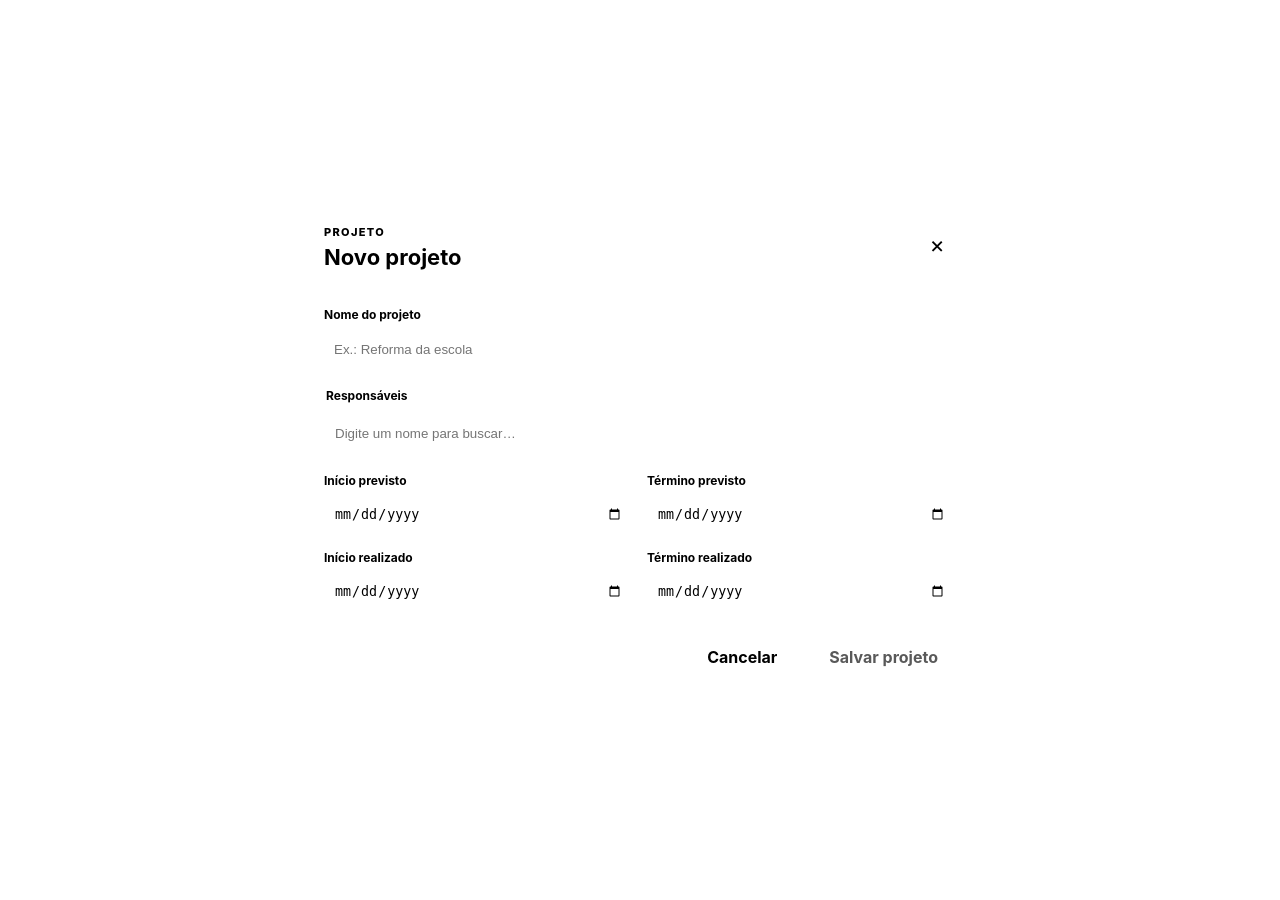
ProjectFormModal › filters responsibles and keeps selected people in a compact chip
Type "Bruno" into the dropdown named "Buscar responsáveis".
click(640, 433); type("Bruno")  # box [332,420,948,446]
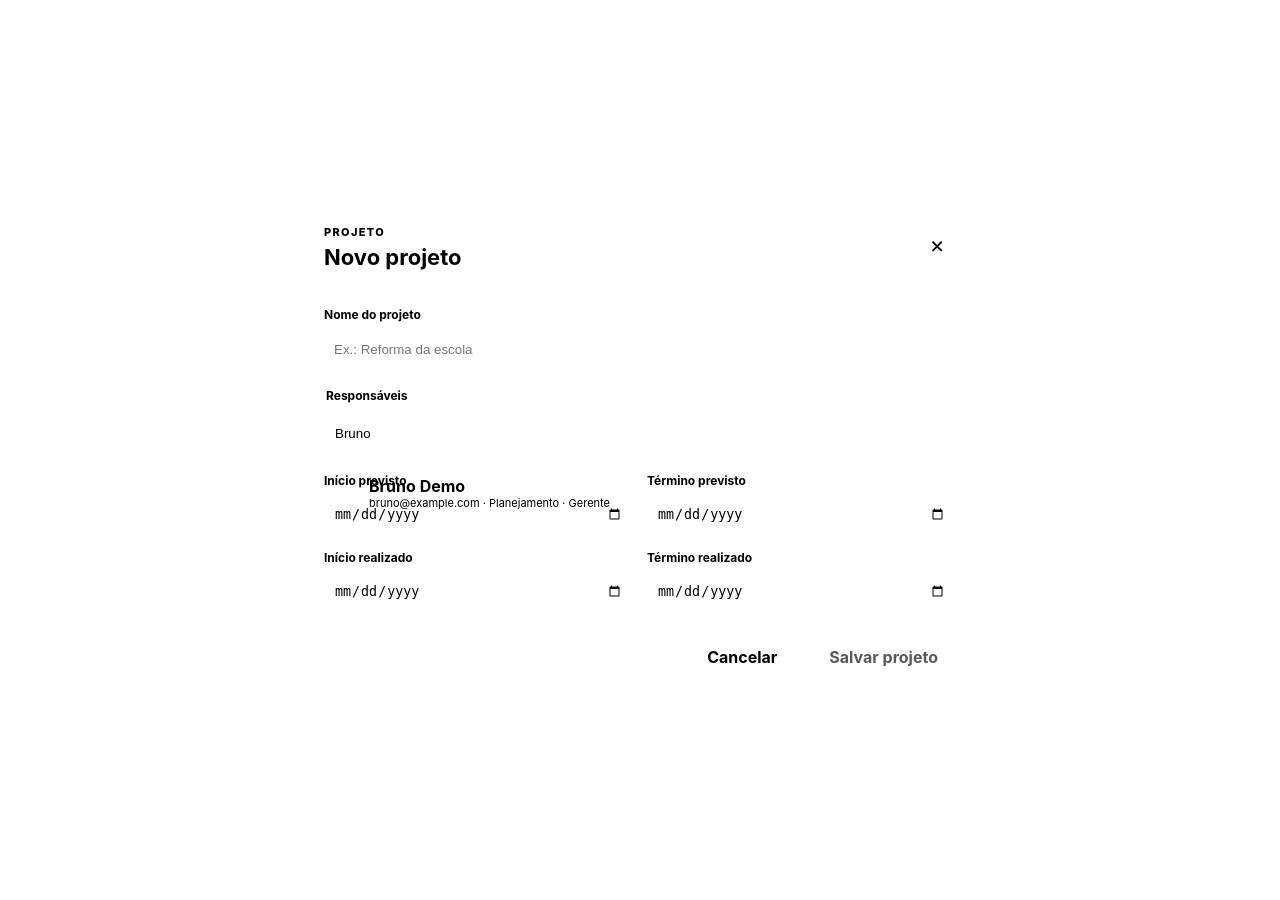
Click the option "Bruno Demo bruno@example.com · Planejamento · Gerente".
click(417, 486)  # box [330,467,950,519]
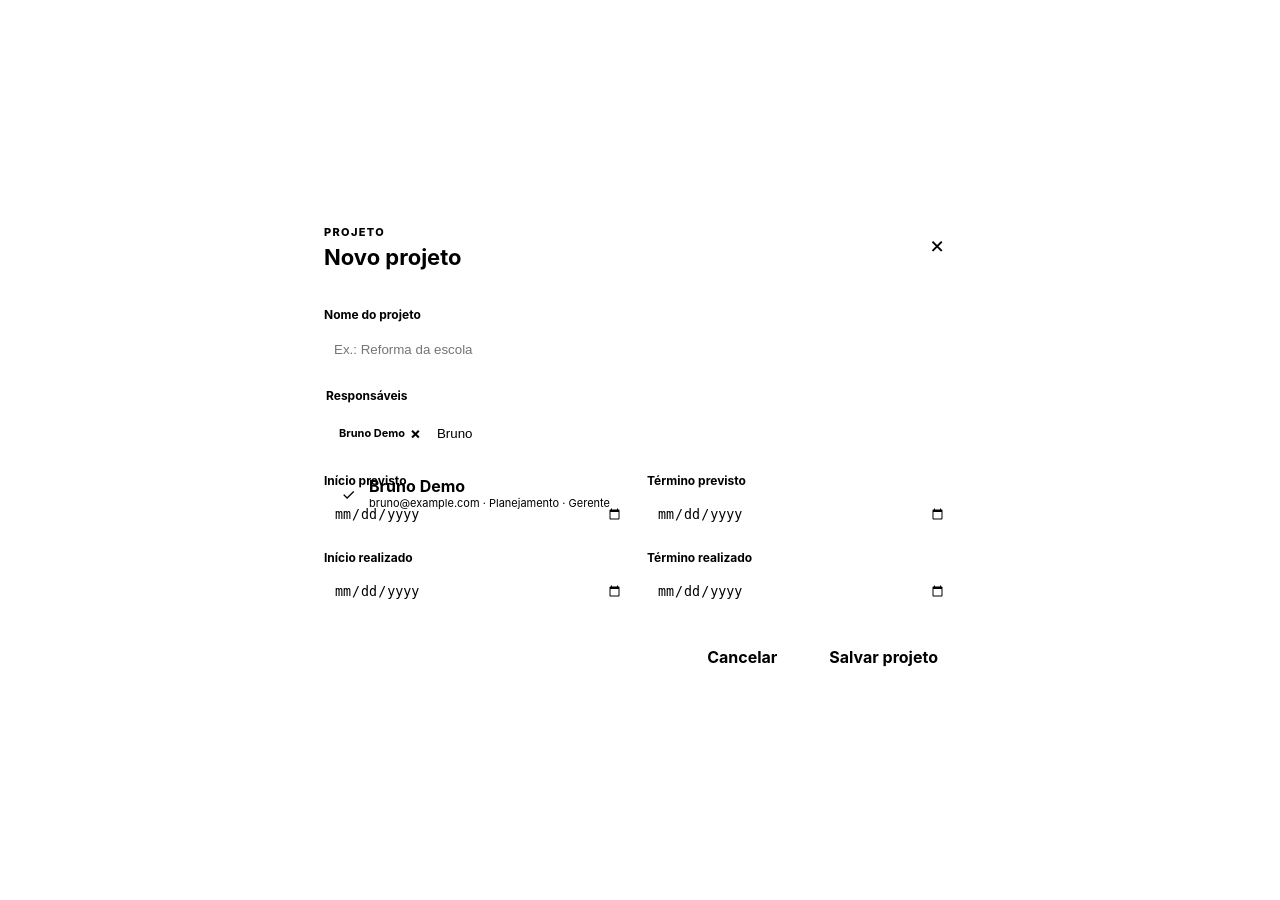
Now the button named "Remover Bruno Demo" is shown, box [410,425,421,441]
